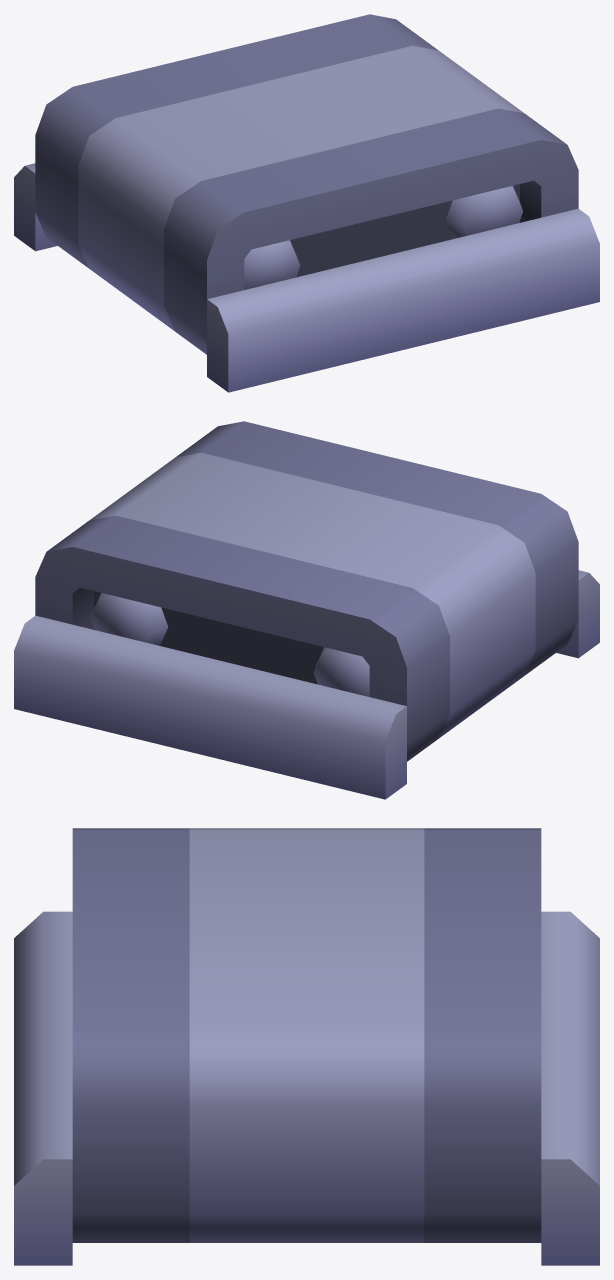
The model's file is kenney-conveyor-conveyor-stripe-sides.glb.
3 renders of one model, top to bottom at view 1: azimuth 30°, elevation 25°; view 2: azimuth 150°, elevation 25°; view 3: azimuth 270°, elevation 25°, orthographic. The views are drawn at different scales.
Parts seen in each view (by area): view 1: conveyor-stripe-sides; view 2: conveyor-stripe-sides; view 3: conveyor-stripe-sides.
Part boxes in pixels (<box>): conveyor-stripe-sides: <box>14,14,599,392</box>; conveyor-stripe-sides: <box>14,421,599,799</box>; conveyor-stripe-sides: <box>14,828,599,1265</box>.
Bounding box in the file's own units: 1 × 0.3999 × 1.
Materials: 1 (1 with a texture image).
